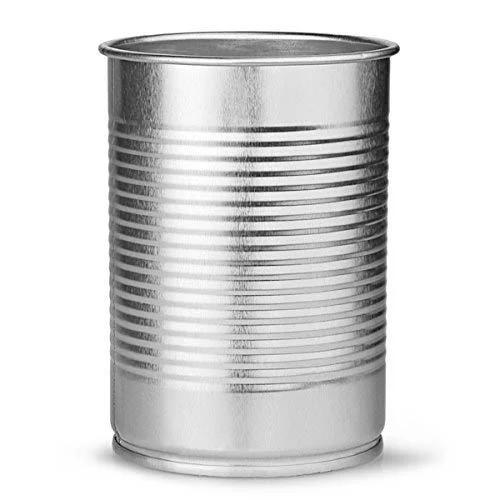metal: (99, 32, 397, 476)
